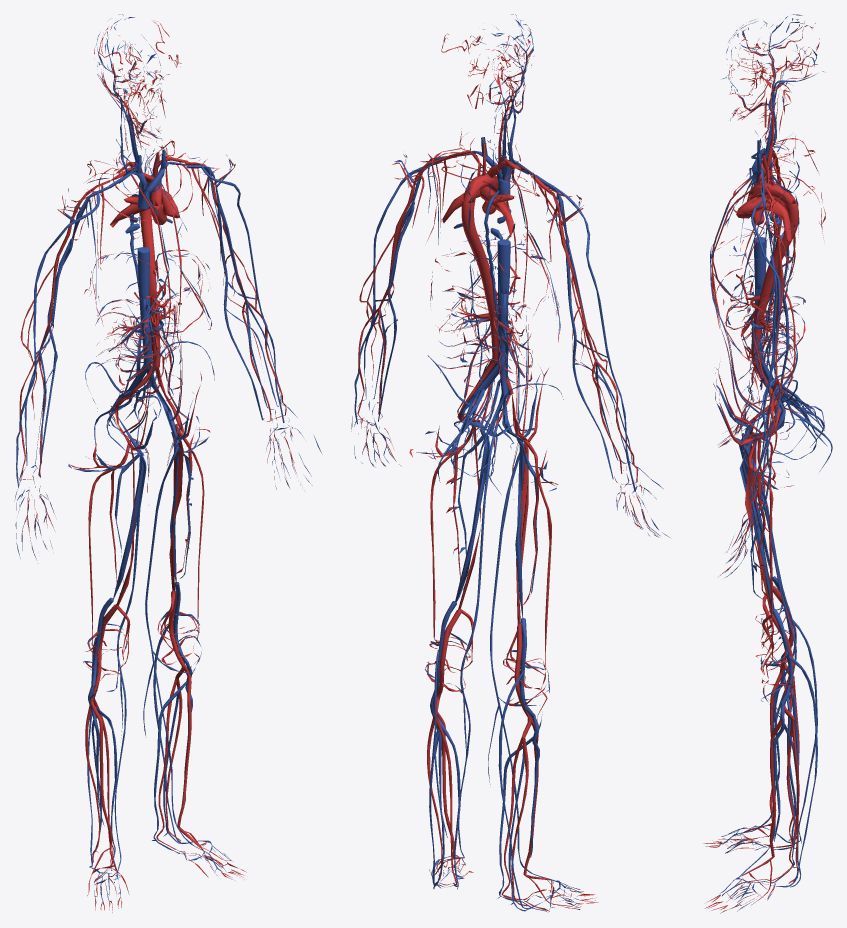
Rendered from vessels.glb.
The picture shows the model from 3 angles, left to right: view 1: azimuth 30°, elevation 25°; view 2: azimuth 150°, elevation 25°; view 3: azimuth 270°, elevation 25°; orthographic projection. The views are drawn at different scales.
Parts seen in each view (by area): view 1: veins, arteries, aorta, vena-cava; view 2: veins, arteries, aorta, vena-cava; view 3: veins, arteries, aorta, vena-cava.
Part boxes in pixels (<box>): veins: <box>14,14,322,904</box>; arteries: <box>19,20,304,912</box>; aorta: <box>140,176,166,370</box>; vena-cava: <box>137,190,151,369</box>; veins: <box>351,14,669,912</box>; arteries: <box>357,28,658,911</box>; aorta: <box>461,173,498,364</box>; vena-cava: <box>497,178,510,365</box>; veins: <box>710,14,832,911</box>; arteries: <box>703,23,825,913</box>; aorta: <box>748,182,798,366</box>; vena-cava: <box>753,183,766,360</box>.
Size of the model in its own units: 0.6362 by 1.7 by 0.2361.
